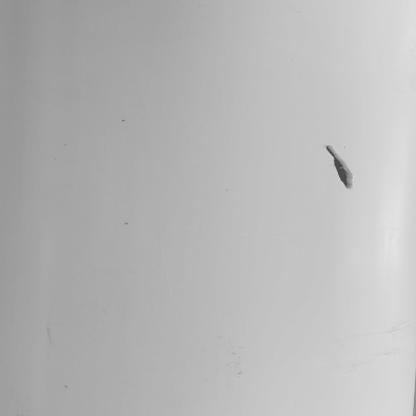kongdong: (324, 144, 356, 190)
